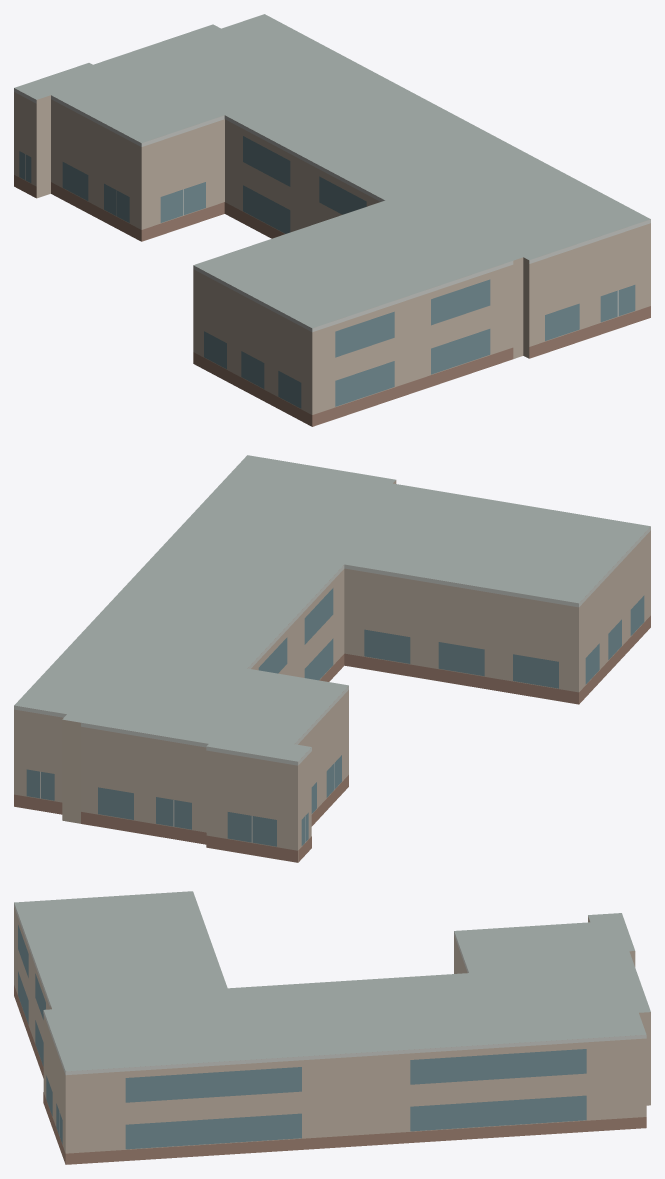
Rendered from survey-upis-32692397.glb.
The picture shows the model from 3 angles, top to bottom: view 1: azimuth 30°, elevation 25°; view 2: azimuth 150°, elevation 25°; view 3: azimuth 270°, elevation 25°; orthographic projection. The views are drawn at different scales.
Parts seen in each view (by area): view 1: survey-upis-32692397.tmp; view 2: survey-upis-32692397.tmp; view 3: survey-upis-32692397.tmp.
Part boxes in pixels (bbox=[...]): survey-upis-32692397.tmp: bbox=[14, 14, 650, 426]; survey-upis-32692397.tmp: bbox=[14, 455, 650, 862]; survey-upis-32692397.tmp: bbox=[14, 891, 650, 1164].
Bounding box in the file's own units: 25.3 × 6.1 × 37.74.
